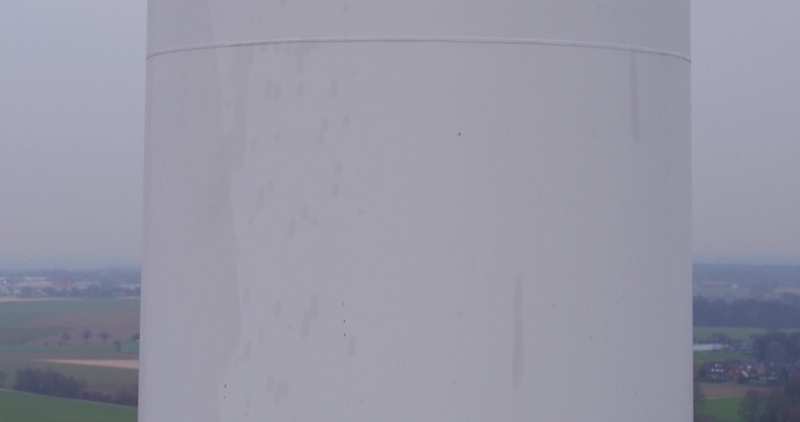weldseam: (145, 32, 694, 70)
